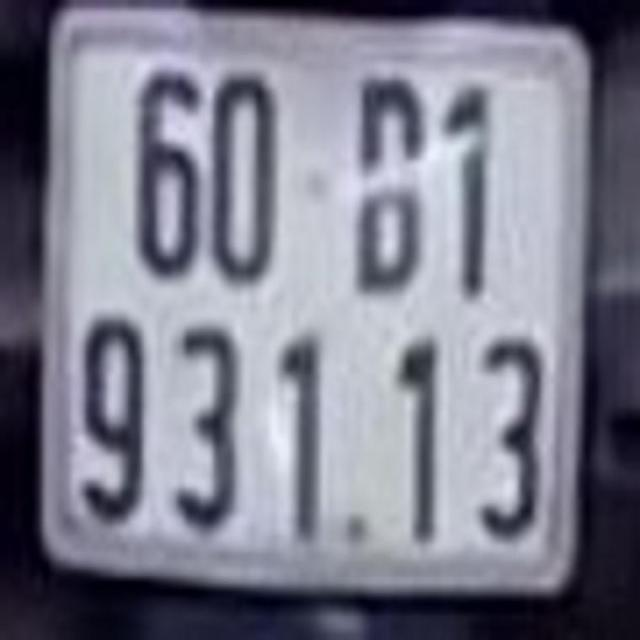0: (207, 65, 277, 280)
1: (438, 78, 502, 304), (271, 330, 329, 540), (394, 328, 441, 546)
3: (168, 316, 242, 535), (474, 327, 547, 547)
6: (132, 60, 202, 276)
9: (77, 311, 143, 523)
B: (348, 67, 428, 300)
